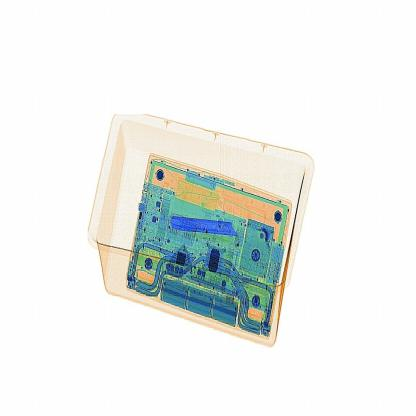pliers: (168, 212, 242, 253)
